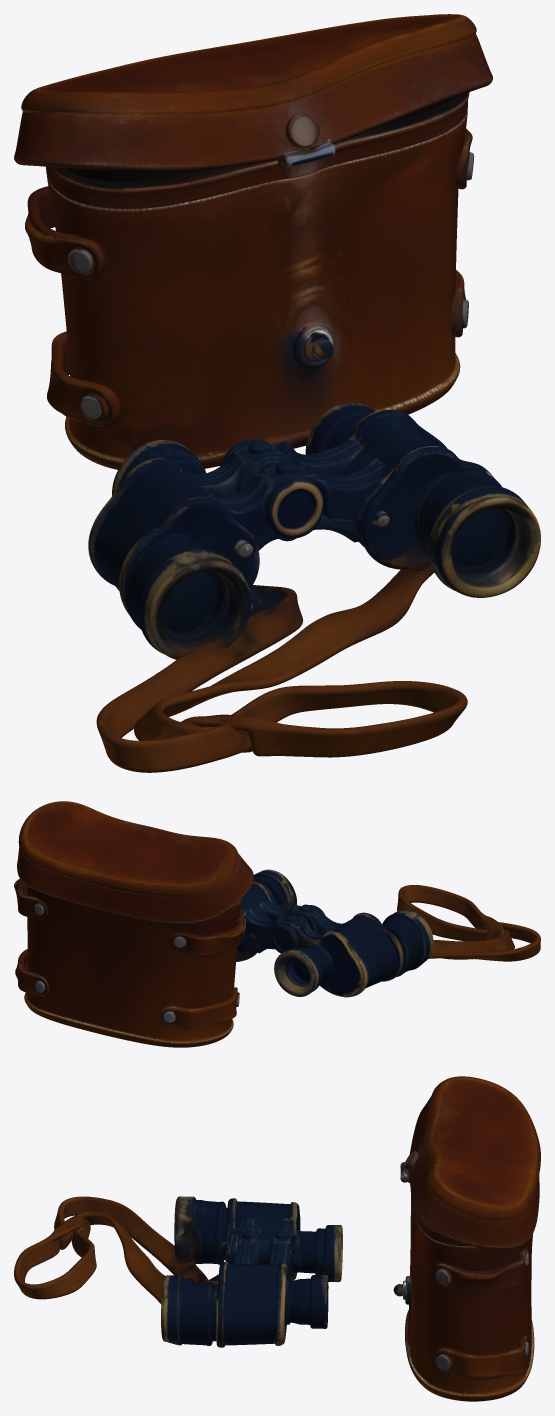
The model's file is 左权在太行山用过的望远镜.glb.
3 views of the same model, one above another, from view 1: azimuth 30°, elevation 25°; view 2: azimuth 150°, elevation 25°; view 3: azimuth 270°, elevation 25° (orthographic). The views are drawn at different scales.
Visible parts, largest first — view 1: texture_pbr_v128; view 2: texture_pbr_v128; view 3: texture_pbr_v128.
Boxes of the visible parts, bbox=[...] form: texture_pbr_v128: bbox=[14, 14, 540, 772]; texture_pbr_v128: bbox=[14, 801, 540, 1047]; texture_pbr_v128: bbox=[14, 1076, 540, 1401].
Size of the model in its own units: 0.8508 by 0.4496 by 0.951.
1 material, 1 textured.
